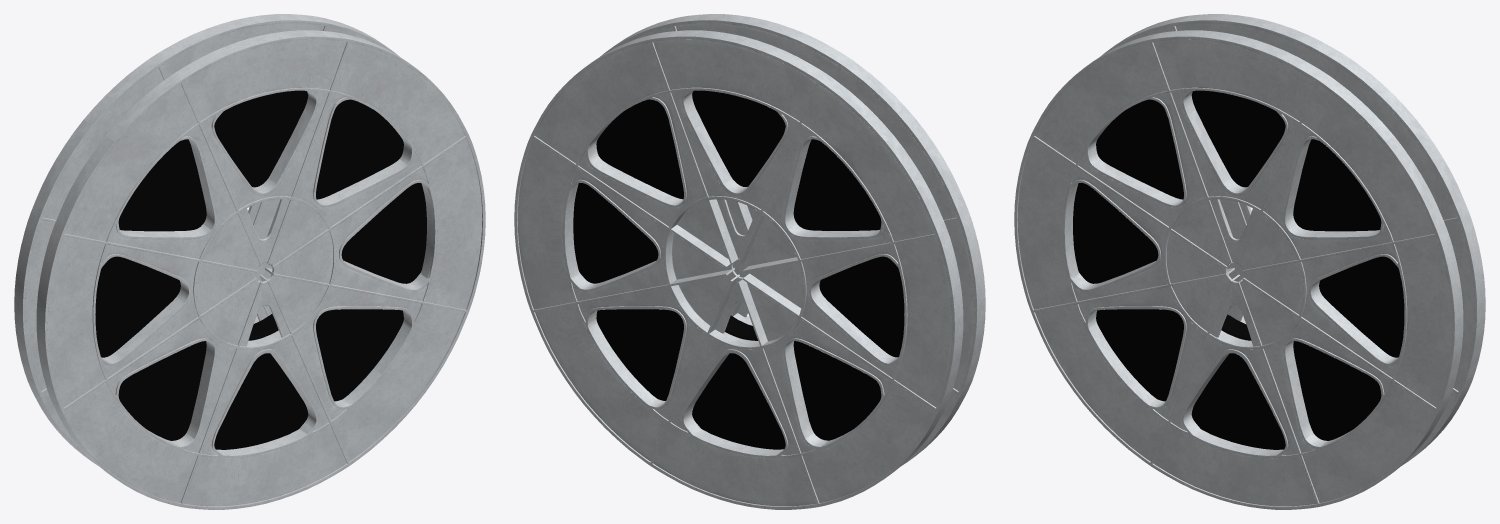
File: archive-reel.glb
3 renders of one model, left to right at view 1: azimuth 30°, elevation 25°; view 2: azimuth 150°, elevation 25°; view 3: azimuth 330°, elevation 25°, orthographic.
Visible parts, largest first — view 1: archive_reel_frame_002_mesh, archive_reel_rotator_001_mesh, archive_reel_frame_001_mesh; view 2: archive_reel_frame_001_mesh, archive_reel_rotator_001_mesh, archive_reel_frame_002_mesh; view 3: archive_reel_frame_002_mesh, archive_reel_rotator_001_mesh, archive_reel_frame_001_mesh.
Boxes of the visible parts, box(x1,y1,x2,y2) form: archive_reel_frame_002_mesh: box(36, 30, 485, 509); archive_reel_rotator_001_mesh: box(95, 90, 426, 449); archive_reel_frame_001_mesh: box(14, 14, 399, 465); archive_reel_frame_001_mesh: box(514, 30, 963, 509); archive_reel_rotator_001_mesh: box(573, 90, 904, 449); archive_reel_frame_002_mesh: box(600, 14, 985, 465); archive_reel_frame_002_mesh: box(1014, 30, 1463, 509); archive_reel_rotator_001_mesh: box(1073, 90, 1404, 449); archive_reel_frame_001_mesh: box(1101, 14, 1485, 465).
Bounding box in the file's own units: 2 × 2 × 0.2429.
2 materials, 2 textured.
